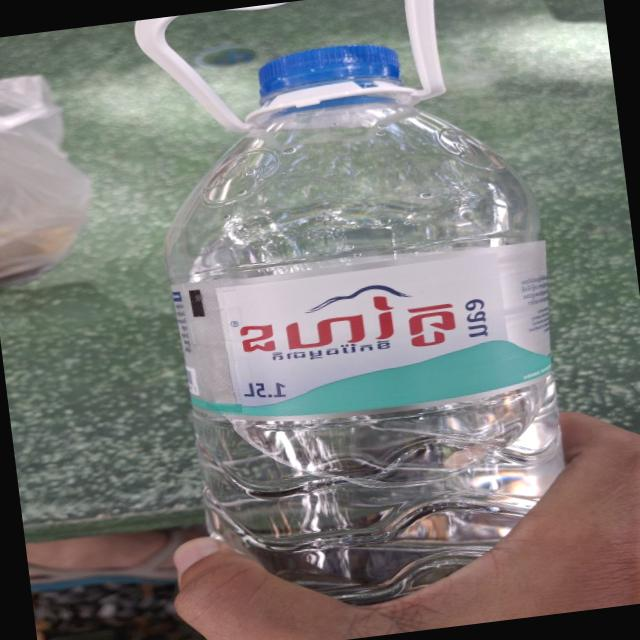Yolov11_80vkh: (217, 277, 474, 374)
